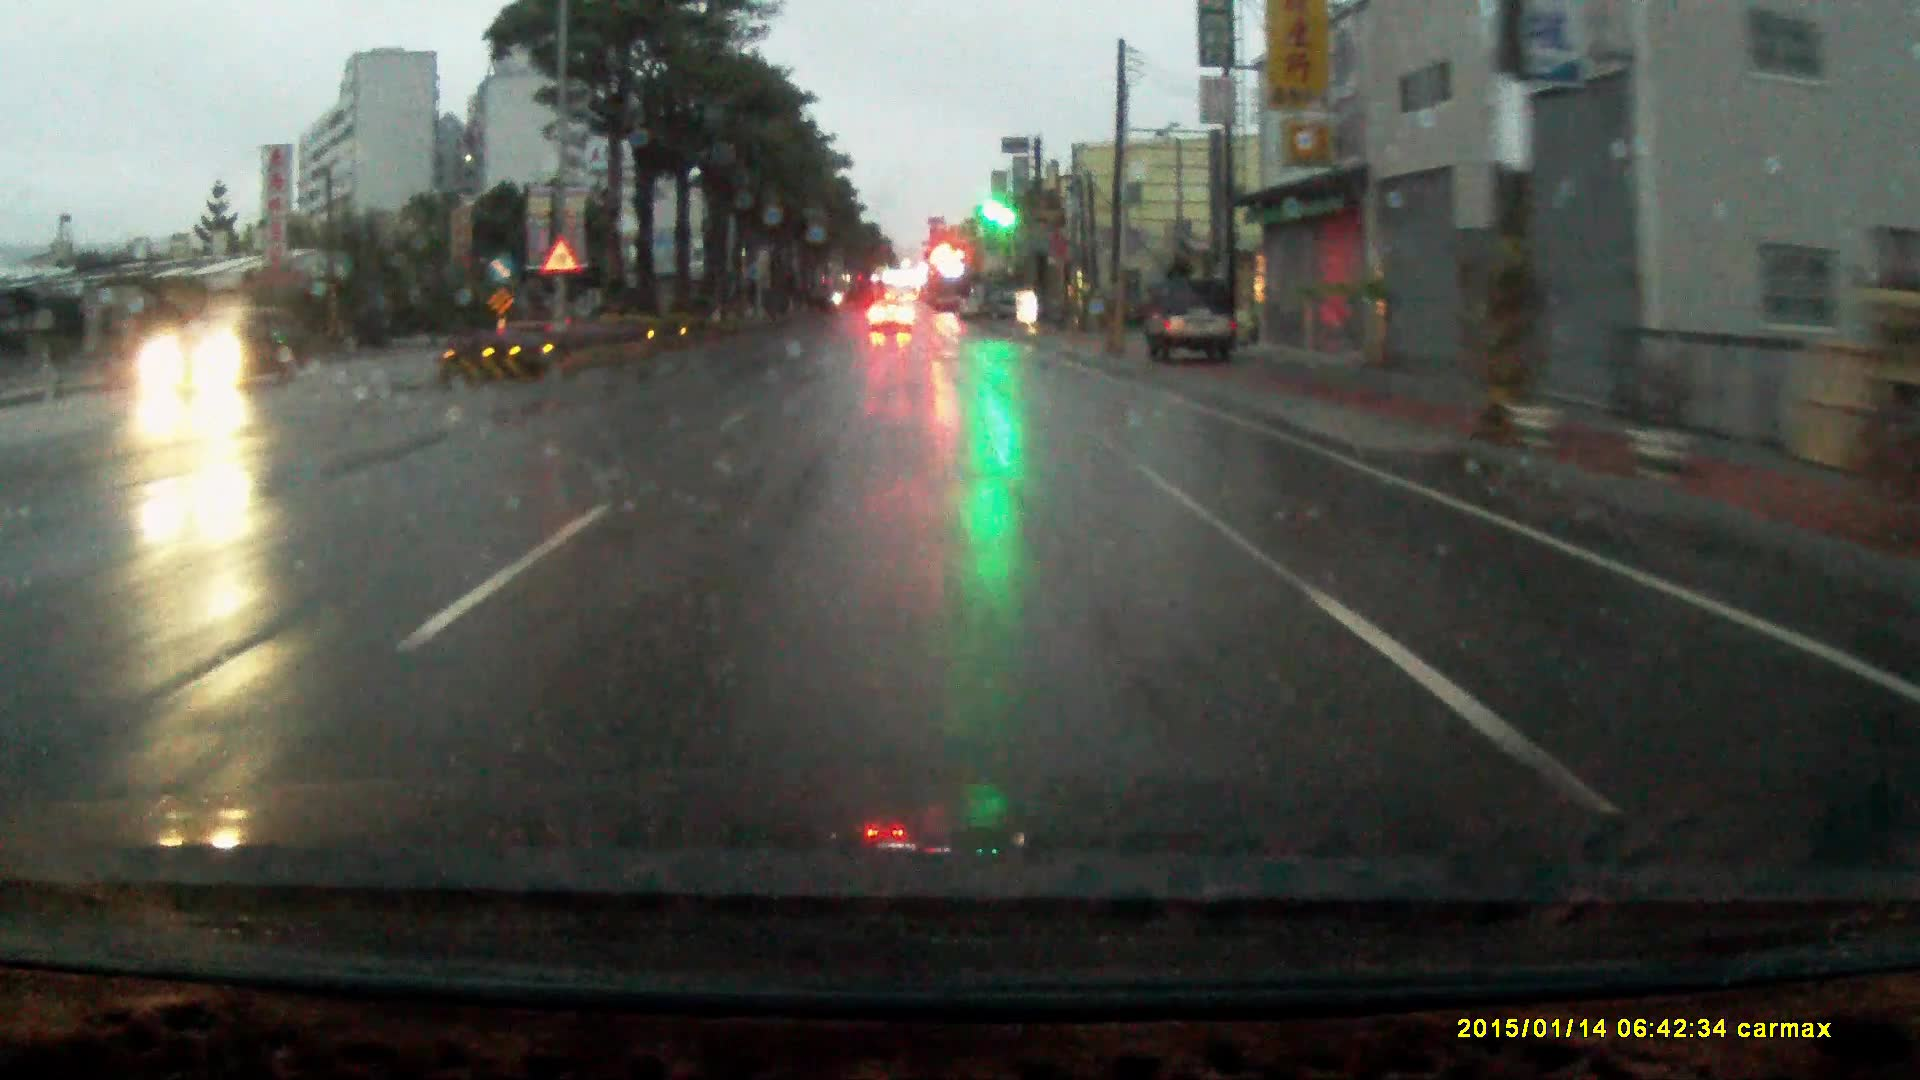vehicle: (133, 301, 315, 394), (1145, 270, 1244, 363), (870, 301, 914, 340)
